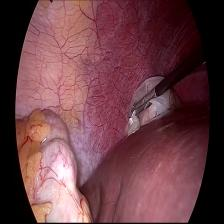Grasper: (129, 88, 156, 118)
Specimen Bag: (122, 70, 182, 135)
